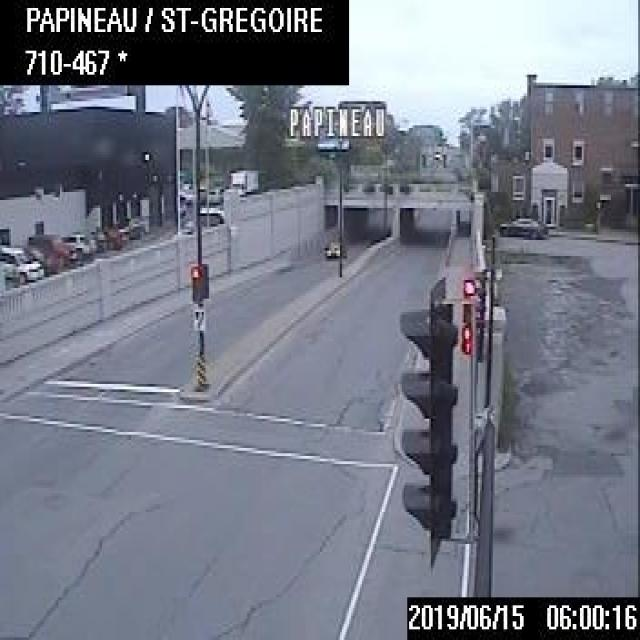vehicle: (495, 209, 552, 241), (0, 242, 44, 282), (58, 228, 94, 262), (227, 165, 260, 197), (324, 237, 338, 256)
